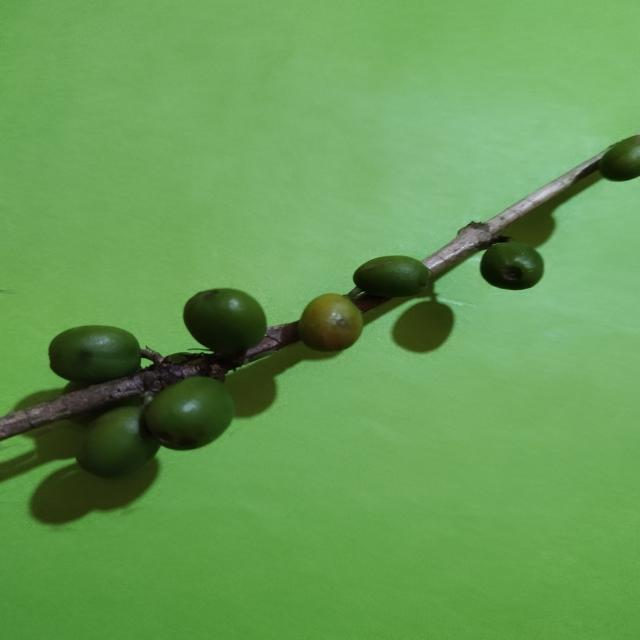Danado: (296, 293, 368, 356)
Sano: (141, 378, 236, 454), (47, 326, 149, 388), (182, 288, 270, 356), (352, 256, 433, 302), (478, 241, 548, 294)
